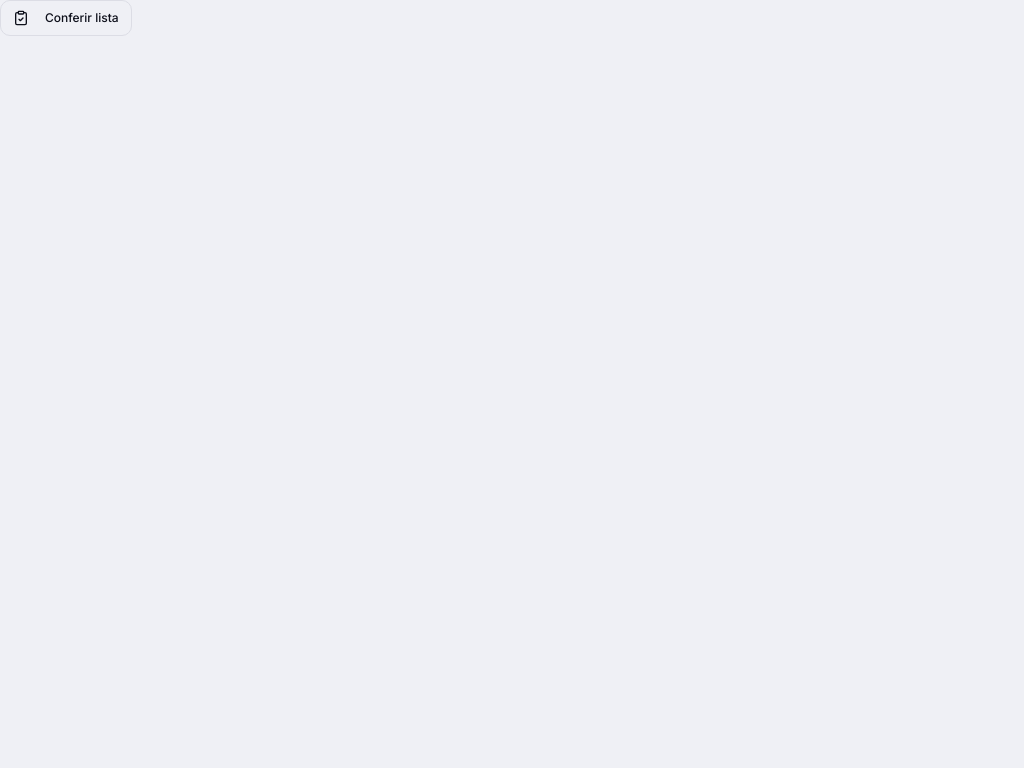
ReconcileDNCDialog › mostra o erro da consulta em vez de dizer que esta tudo certo
The width and height of the screenshot is (1024, 768).
Click the button "Conferir lista": [66, 18] box [0, 0, 132, 36]
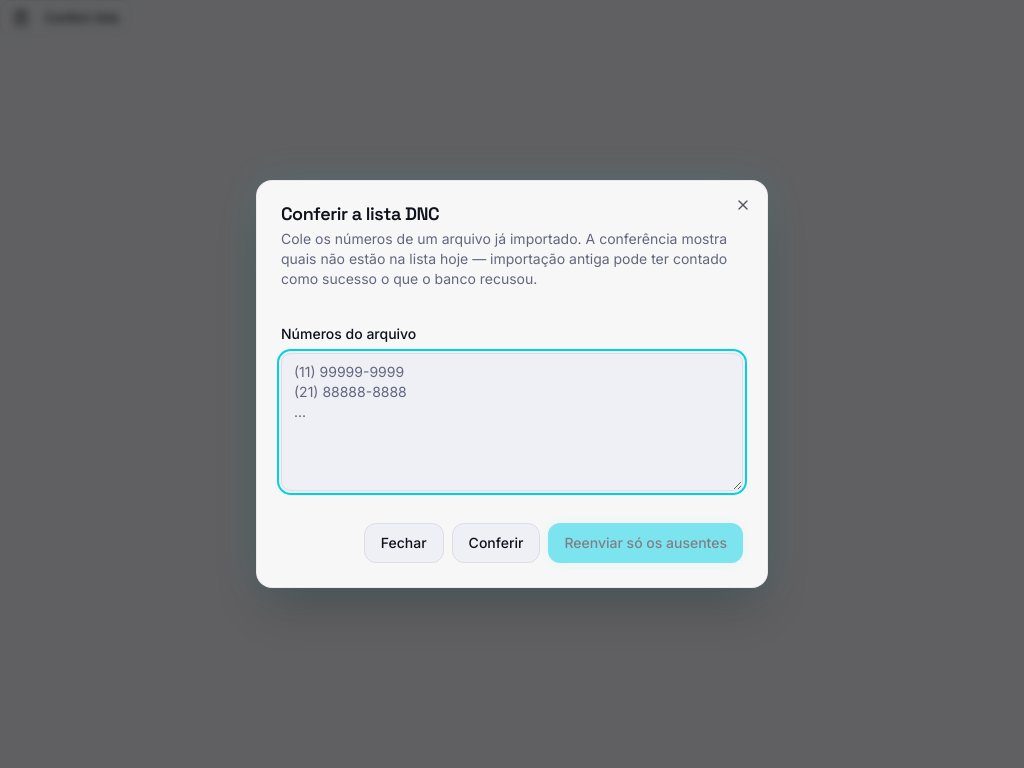
In the text box: [512, 422] box [281, 353, 743, 491], type "11999990001"
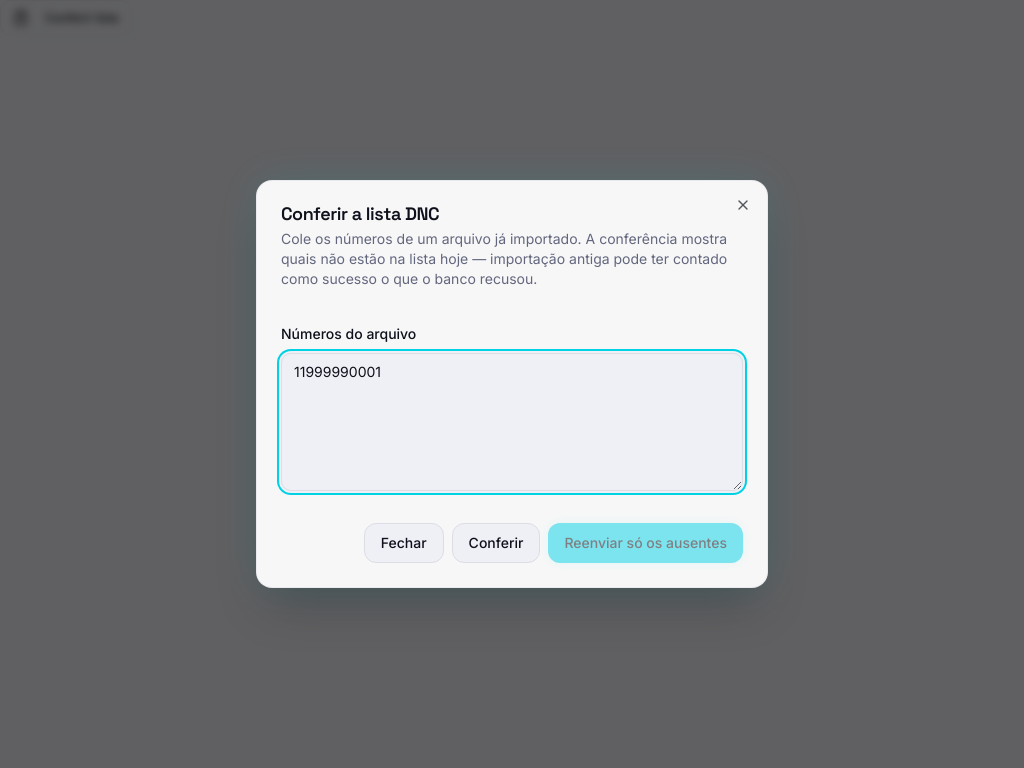
Click the button "Conferir": [496, 543] box [452, 523, 540, 563]
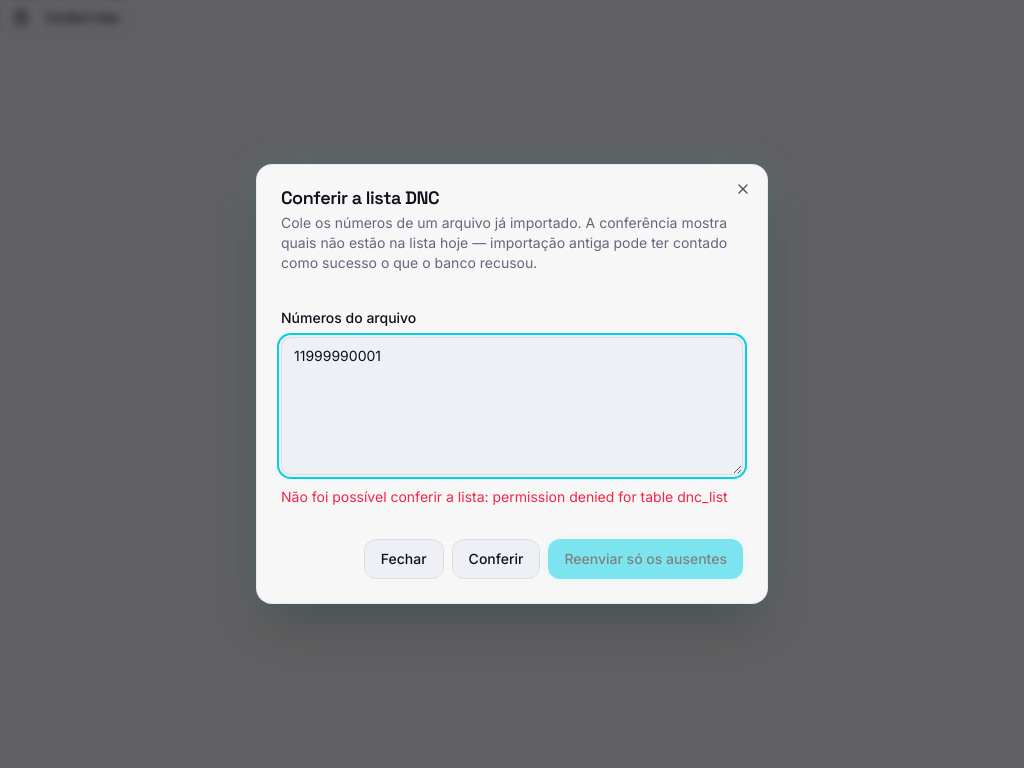
Now the message shows "permission denied for table dnc_list", box [492, 488, 728, 505]
